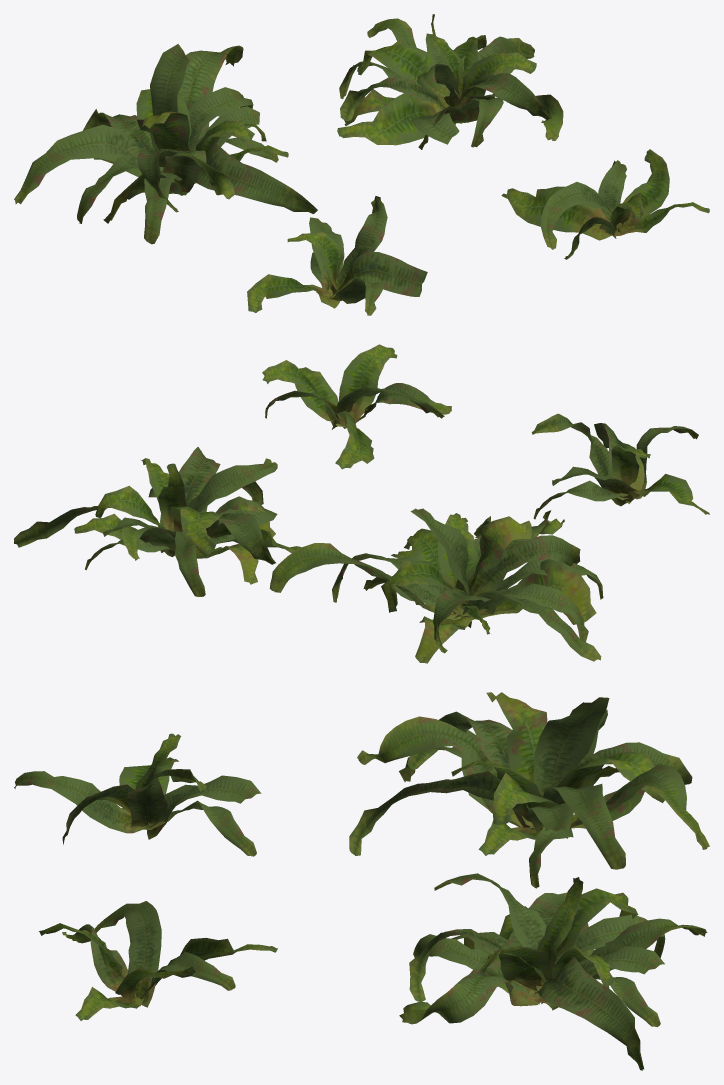
The model's file is fern_02.gltf.
3 views of the same model, one above another, from view 1: azimuth 30°, elevation 25°; view 2: azimuth 150°, elevation 25°; view 3: azimuth 270°, elevation 25° (orthographic). The views are drawn at different scales.
Visible parts, largest first — view 1: fern_02_b, fern_02_c, fern_02_d, fern_02_a; view 2: fern_02_b, fern_02_c, fern_02_d, fern_02_a; view 3: fern_02_b, fern_02_c, fern_02_a, fern_02_d.
Part boxes in pixels (bbox=[...]): fern_02_b: bbox=[14, 44, 317, 244]; fern_02_c: bbox=[337, 14, 563, 149]; fern_02_d: bbox=[501, 149, 709, 259]; fern_02_a: bbox=[247, 196, 427, 315]; fern_02_b: bbox=[269, 508, 603, 663]; fern_02_c: bbox=[14, 447, 301, 596]; fern_02_d: bbox=[262, 344, 451, 469]; fern_02_a: bbox=[531, 413, 709, 519]; fern_02_b: bbox=[349, 692, 709, 888]; fern_02_c: bbox=[399, 873, 707, 1070]; fern_02_a: bbox=[14, 733, 261, 856]; fern_02_d: bbox=[39, 901, 277, 1020].
Bounding box in the file's own units: 1.97 × 0.4277 × 1.72.
Materials: 1 (1 with a texture image).
